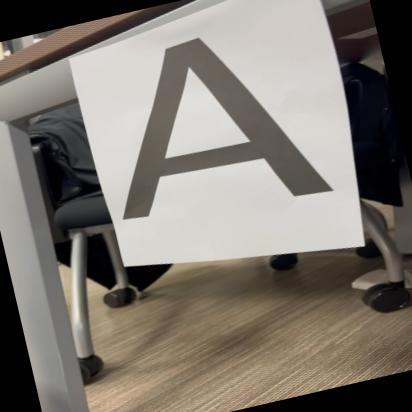seat: (88, 12, 351, 246)
